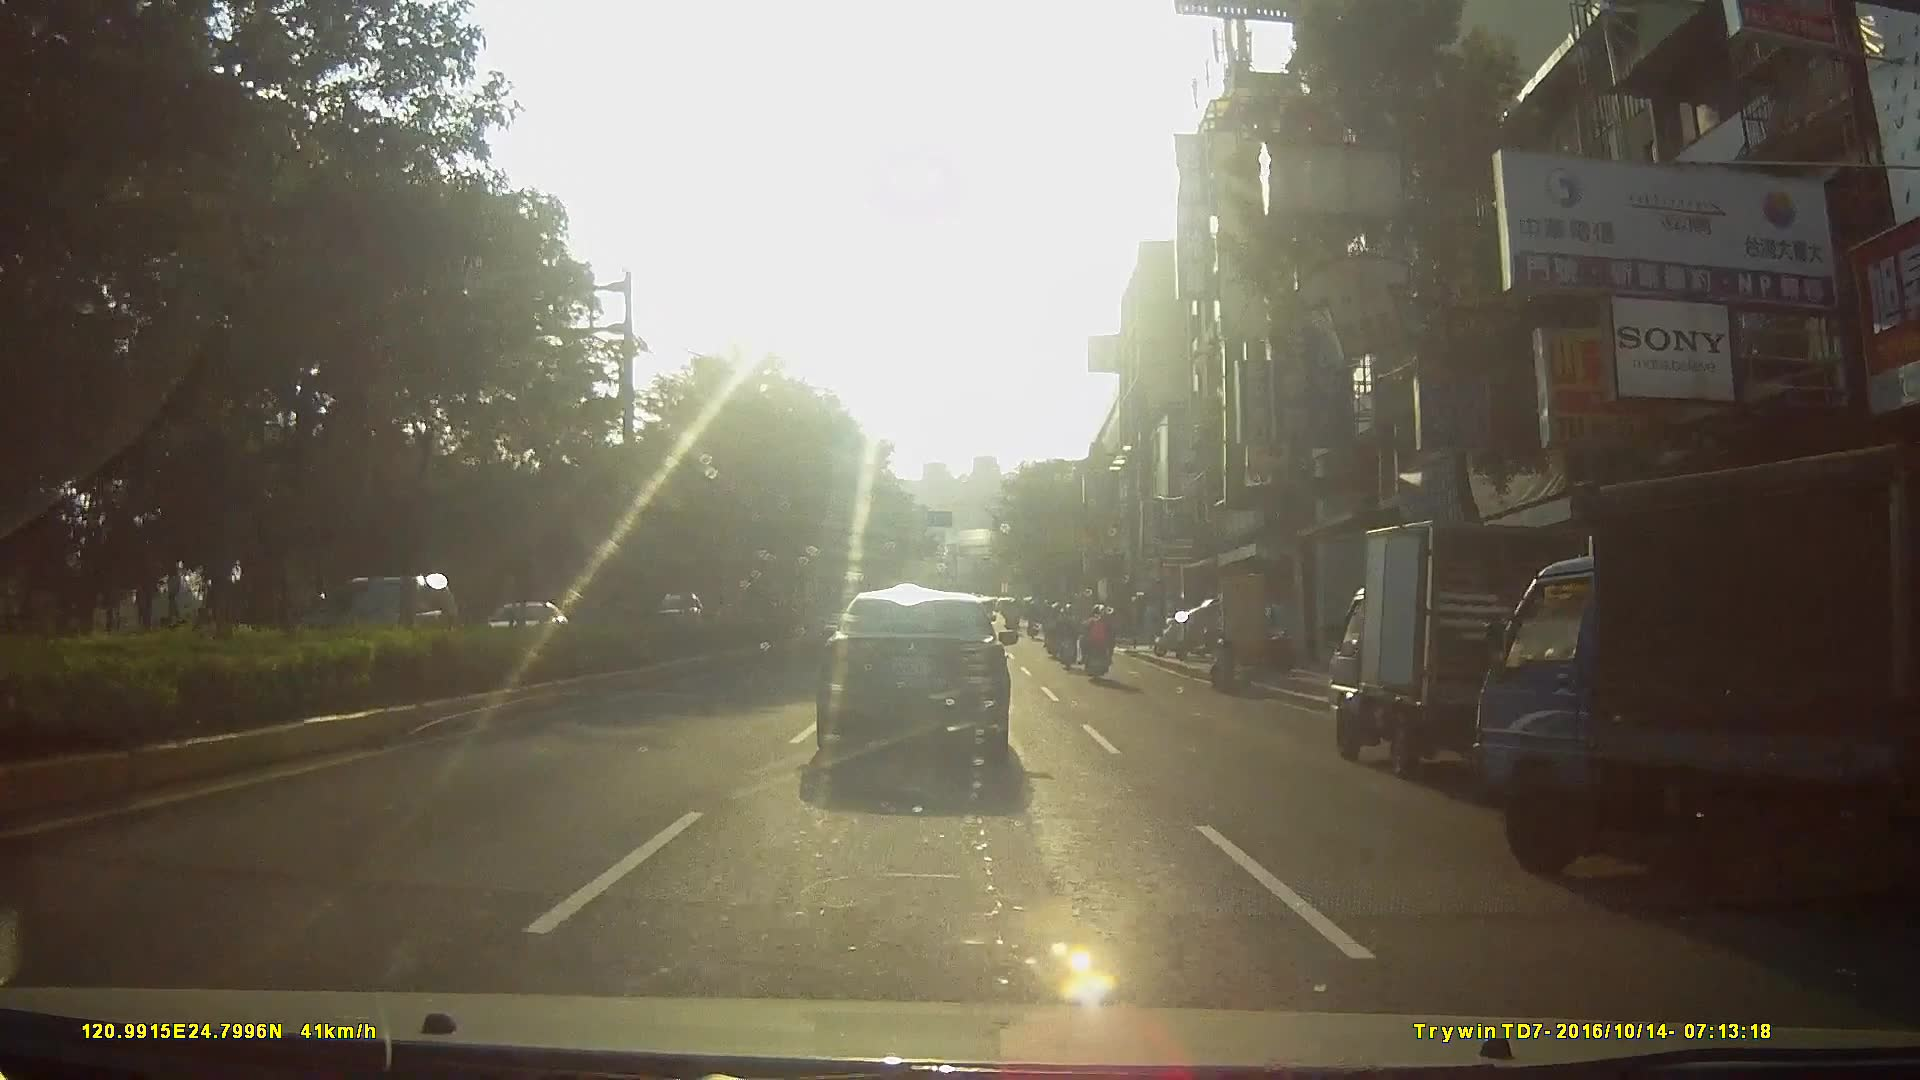rider: (1078, 602, 1118, 684), (1054, 604, 1082, 674), (1045, 606, 1065, 663)
vehicle: (1478, 446, 1920, 934), (1324, 508, 1622, 781), (811, 591, 1026, 786)
